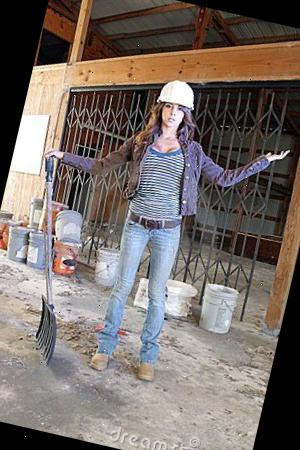helmet: (156, 73, 202, 113)
no_wear: (118, 132, 206, 233)
